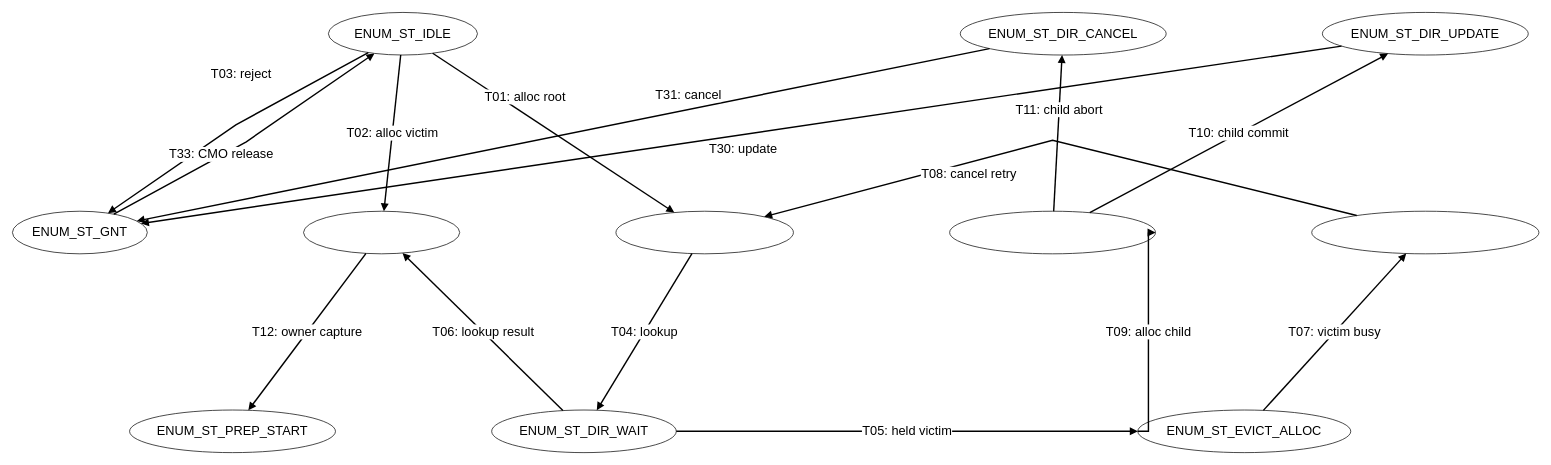
This 1551x465 diagram has some shape labels left out. Here are the shapes that lost their labels. From the top down, the centre of each, then its label:
the point at 381,232: ENUM_ST_OWNER
the point at 704,232: ENUM_ST_DIR_REQ
the point at 1052,232: ENUM_ST_EVICT_WAIT
the point at 1425,232: ENUM_ST_RETRY_CANCEL
